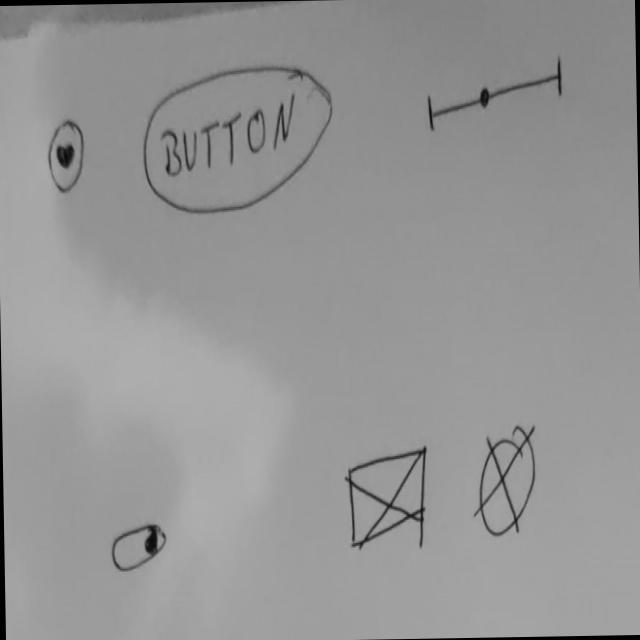button: (140, 62, 337, 218)
icon-button: (47, 118, 87, 198)
image: (346, 442, 430, 555), (471, 422, 540, 541)
slider: (424, 53, 566, 134)
toggle: (111, 522, 169, 580)
